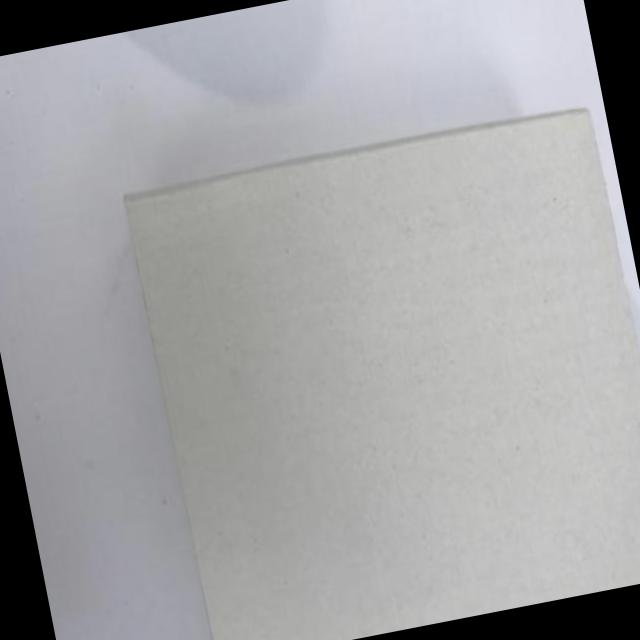cardboard paper: (128, 112, 640, 640)
